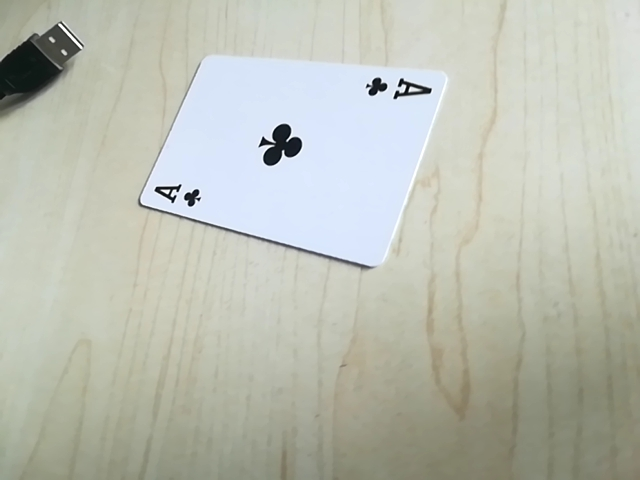mh a: (358, 71, 437, 107), (143, 177, 208, 212)
